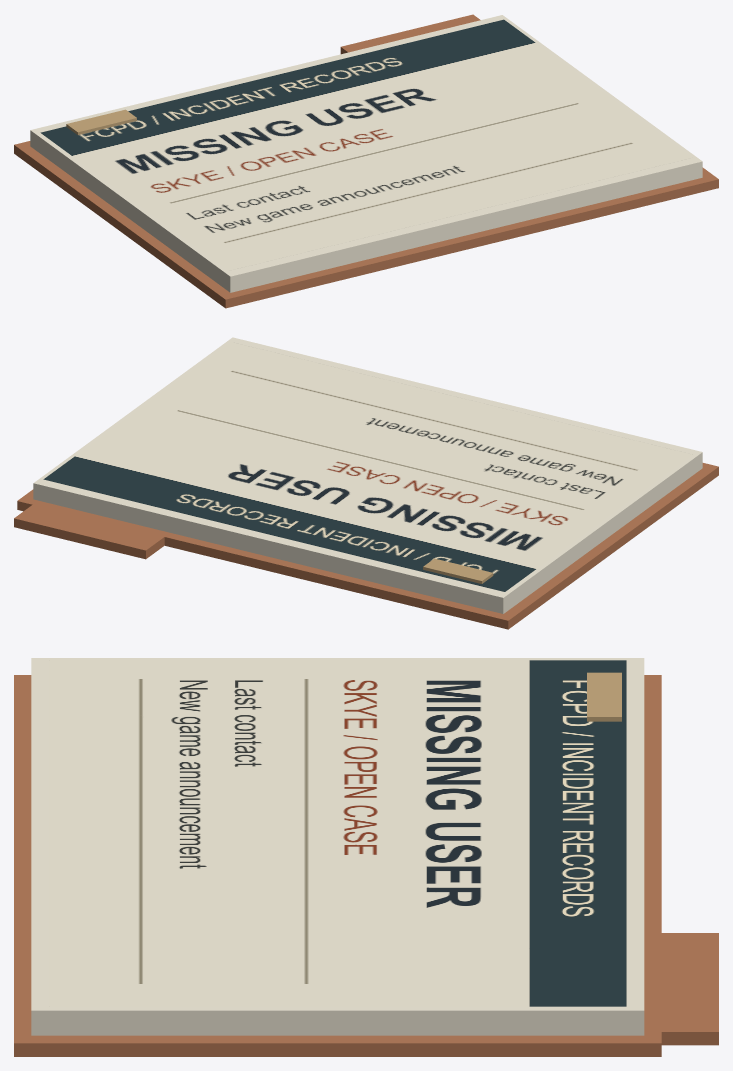
The model's file is missing-user-folder.glb.
The picture shows the model from 3 angles, top to bottom: view 1: azimuth 30°, elevation 25°; view 2: azimuth 150°, elevation 25°; view 3: azimuth 270°, elevation 25°; orthographic projection. The views are drawn at different scales.
Parts seen in each view (by area): view 1: Missing user report, Filed sheets, Folded red file cover, Index tab, Folded brass clip; view 2: Missing user report, Filed sheets, Folded red file cover, Index tab, Folded brass clip; view 3: Missing user report, Filed sheets, Folded red file cover, Index tab, Folded brass clip.
Part boxes in pixels (x1,y1,x2,y2): Missing user report: (40, 19, 692, 270); Filed sheets: (30, 15, 702, 292); Folded red file cover: (14, 141, 718, 308); Index tab: (340, 14, 480, 54); Folded brass clip: (66, 109, 136, 135); Missing user report: (43, 342, 692, 591); Filed sheets: (33, 337, 702, 613); Folded red file cover: (17, 463, 718, 629); Index tab: (14, 502, 164, 559); Folded brass clip: (423, 558, 493, 583); Missing user report: (49, 660, 626, 1006); Filed sheets: (31, 658, 644, 1035); Folded red file cover: (14, 675, 661, 1056); Index tab: (649, 933, 718, 1045); Folded brass clip: (587, 672, 621, 721).
Size of the model in its own units: 0.35 by 0.02 by 0.283.
4 materials, 1 textured.
